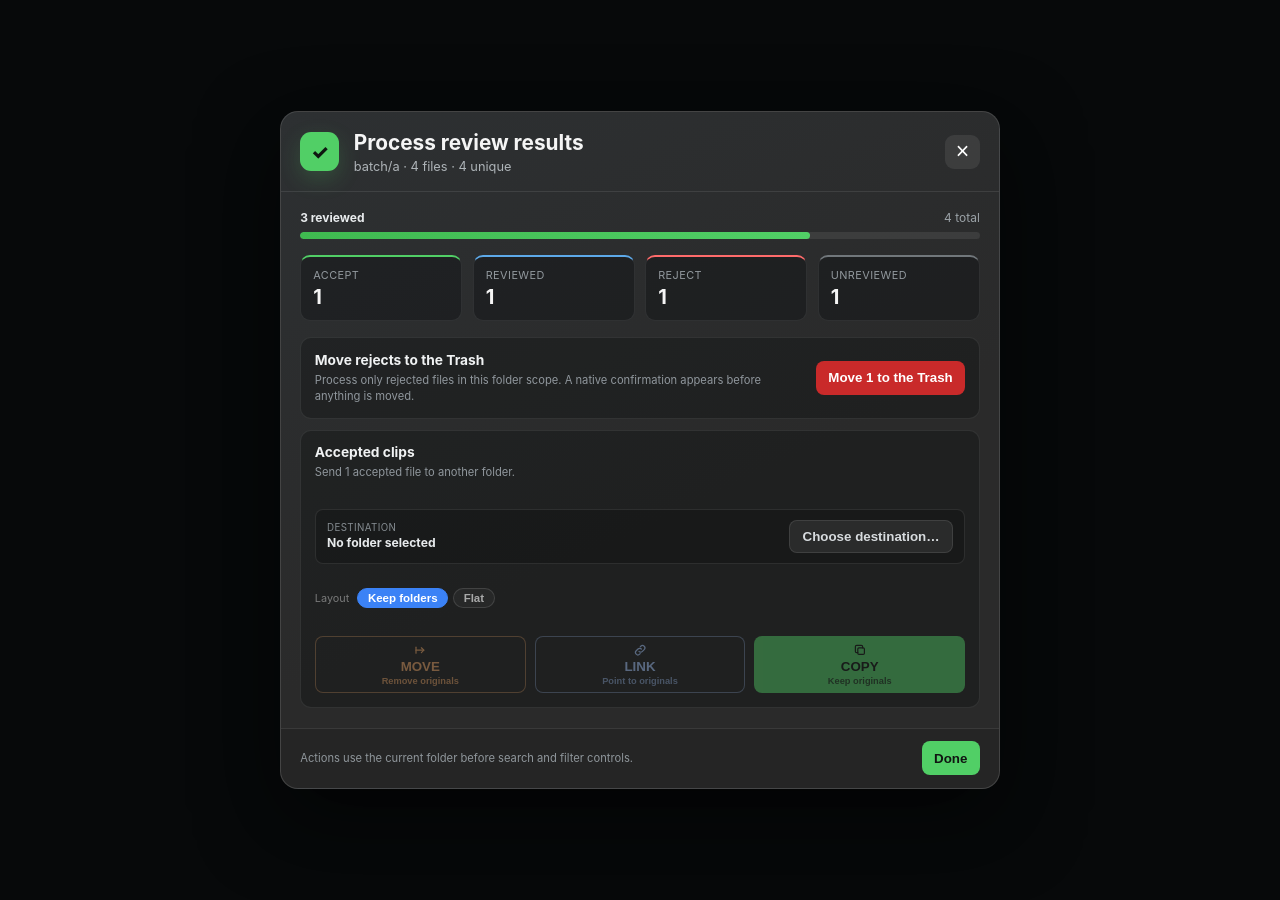
Test: ProcessReviewResultsDialog › starts an explicit move only after a destination is locked in
Check: the button with aria-label "Move accepted clips; choose a destination first" is disabled, box [315,636,526,693]
What coordinates should you click on to do the following:
click the button "Choose destination…"
I would click on:
 (871, 536)
Its box is [789,520,953,553].
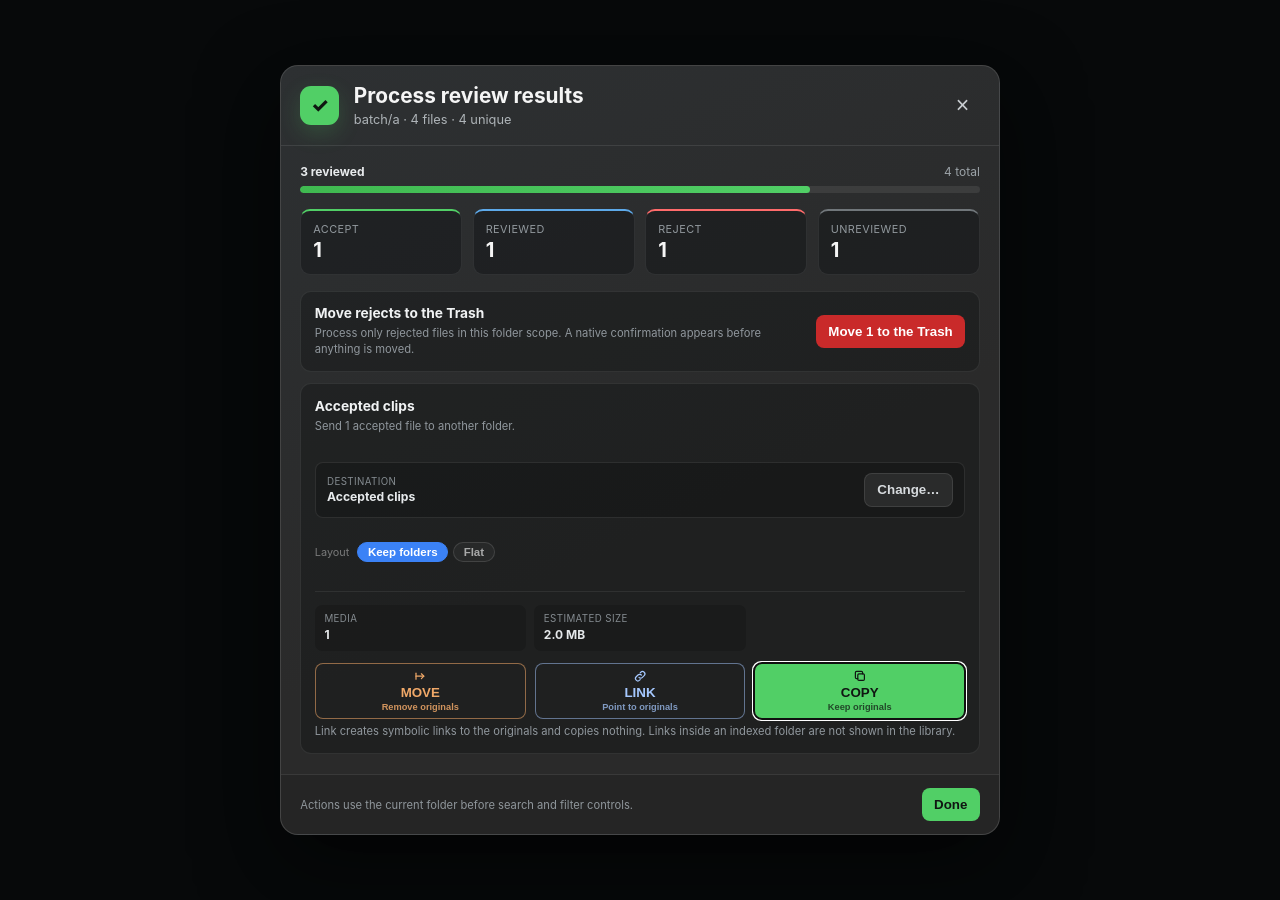
What coordinates should you click on to do the following:
click the button with aria-label "Move 1 file; remove originals"
I would click on:
 (420, 691)
Its box is [315,663,526,719].
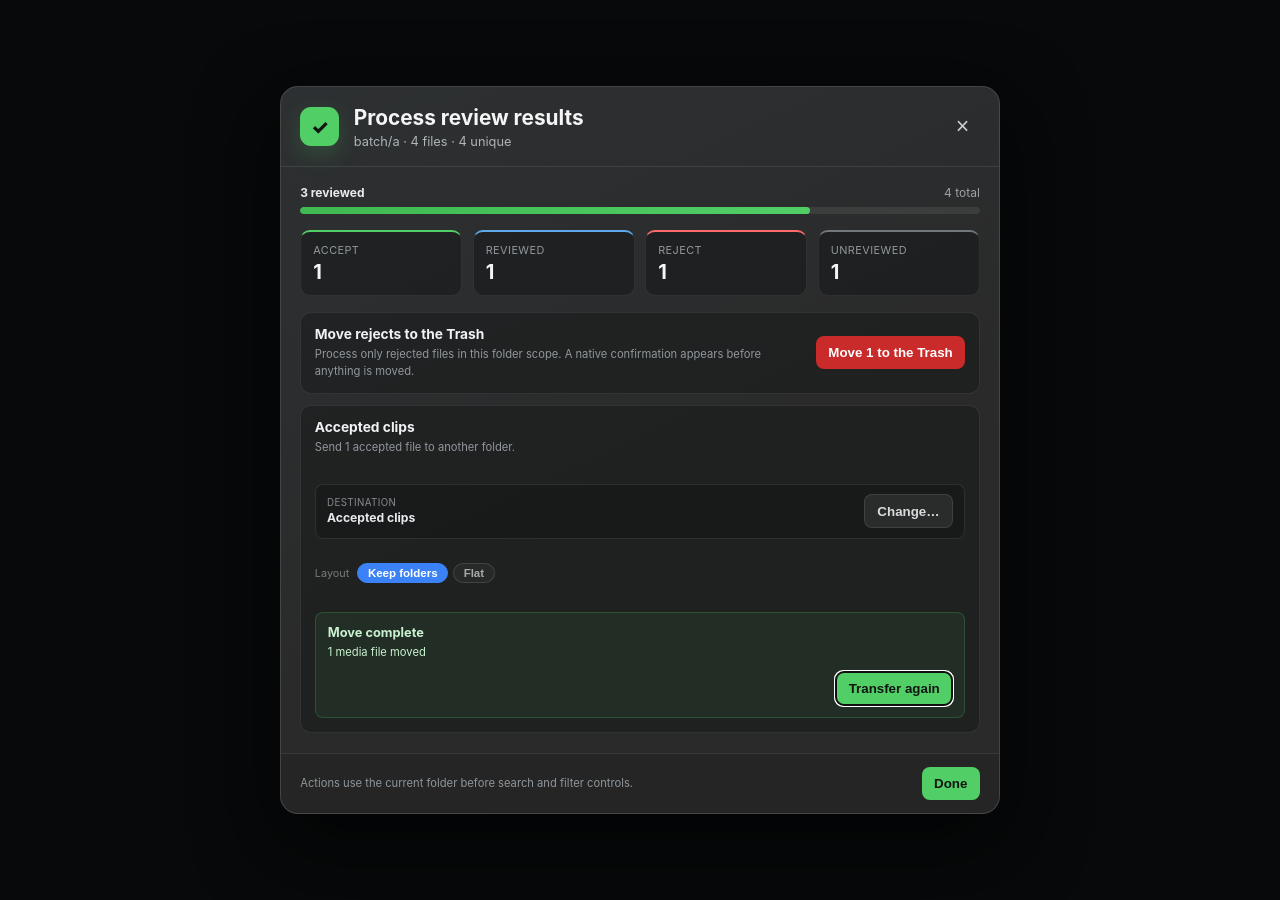
Check: the message shows "Move complete", box [328,625,424,640]
Check: the text "1 media file moved" is shown, box [328,645,426,659]
